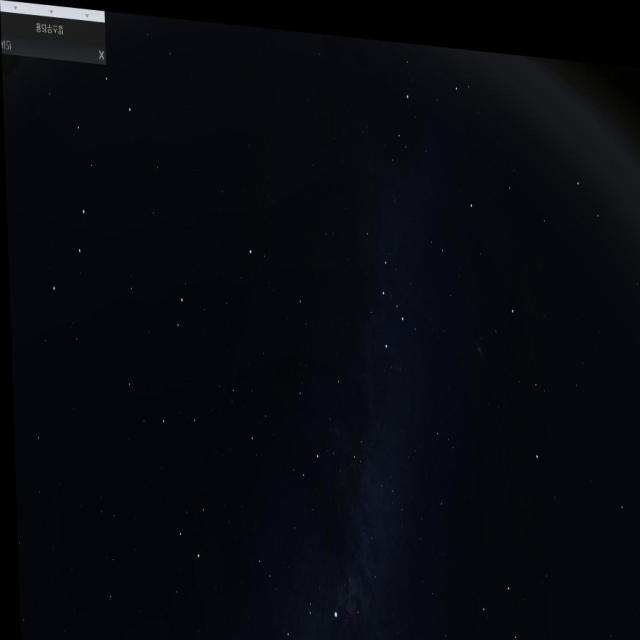cassiopeia: (351, 196, 420, 362)
ursa_major: (42, 57, 146, 301)
